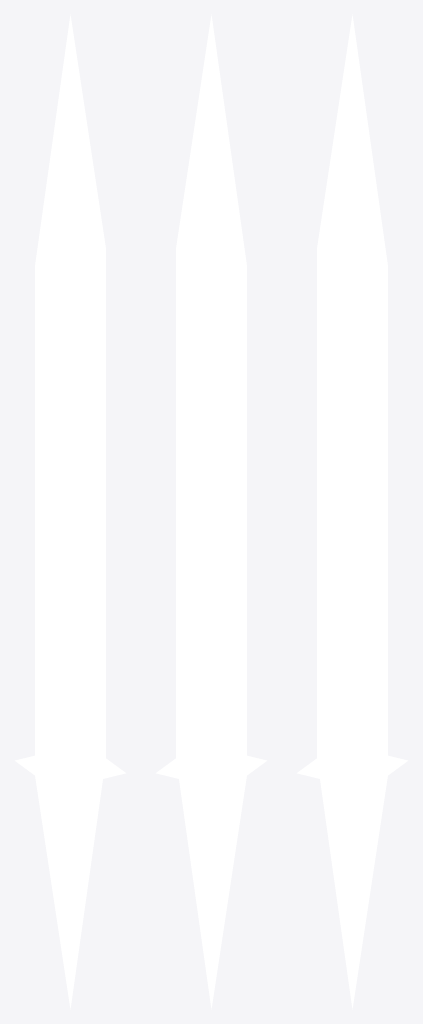
File: laser6.glb
3 views of the same model, side by side, from view 1: azimuth 30°, elevation 25°; view 2: azimuth 150°, elevation 25°; view 3: azimuth 330°, elevation 25° (orthographic).
Parts seen in each view (by area): view 1: group_13; view 2: group_13; view 3: group_13.
Part boxes in pixels (x1,y1,x2,y2): group_13: [15, 14, 125, 1009]; group_13: [156, 14, 266, 1009]; group_13: [297, 14, 407, 1009].
Size of the model in its own units: 362 by 4852 by 362.
1 material, 1 textured.
